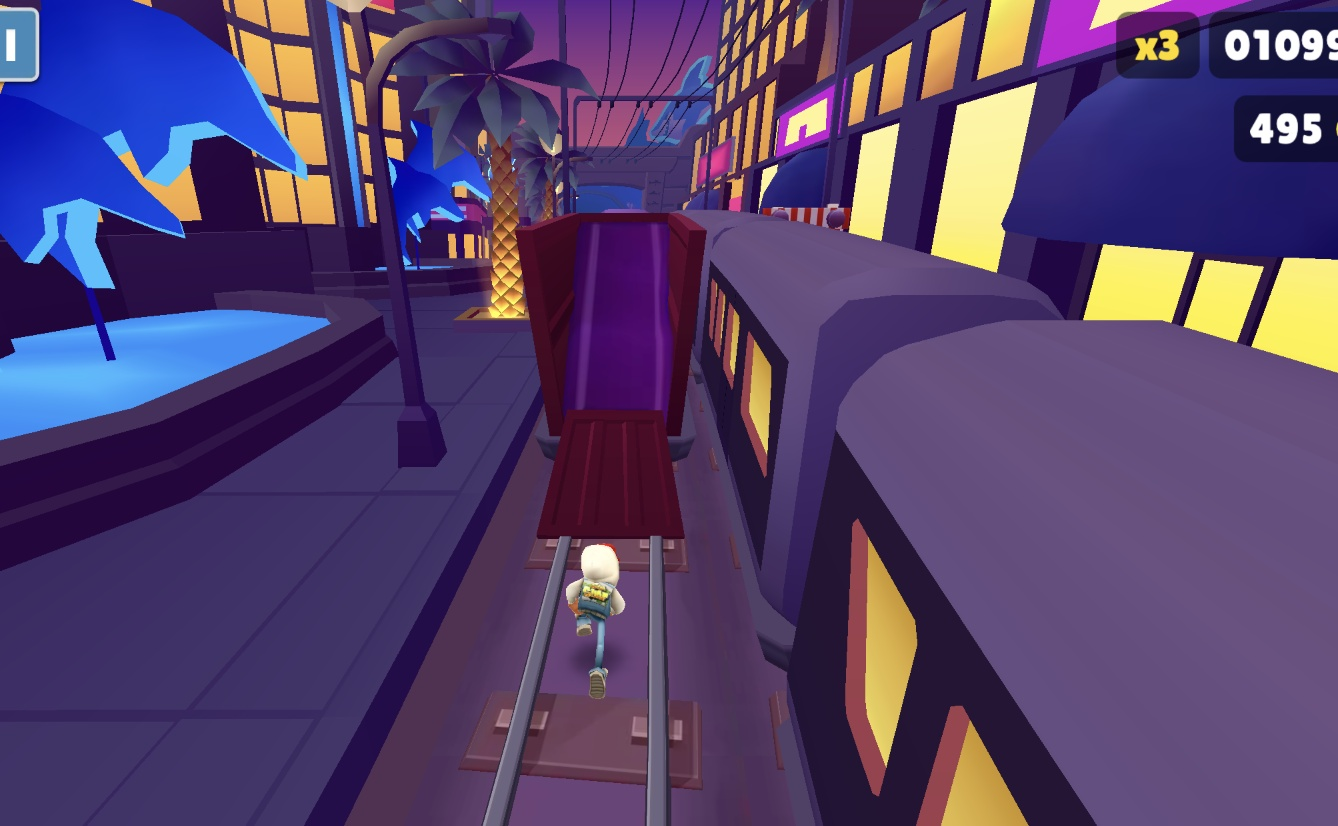train: (696, 210, 1338, 826), (537, 205, 694, 534)
